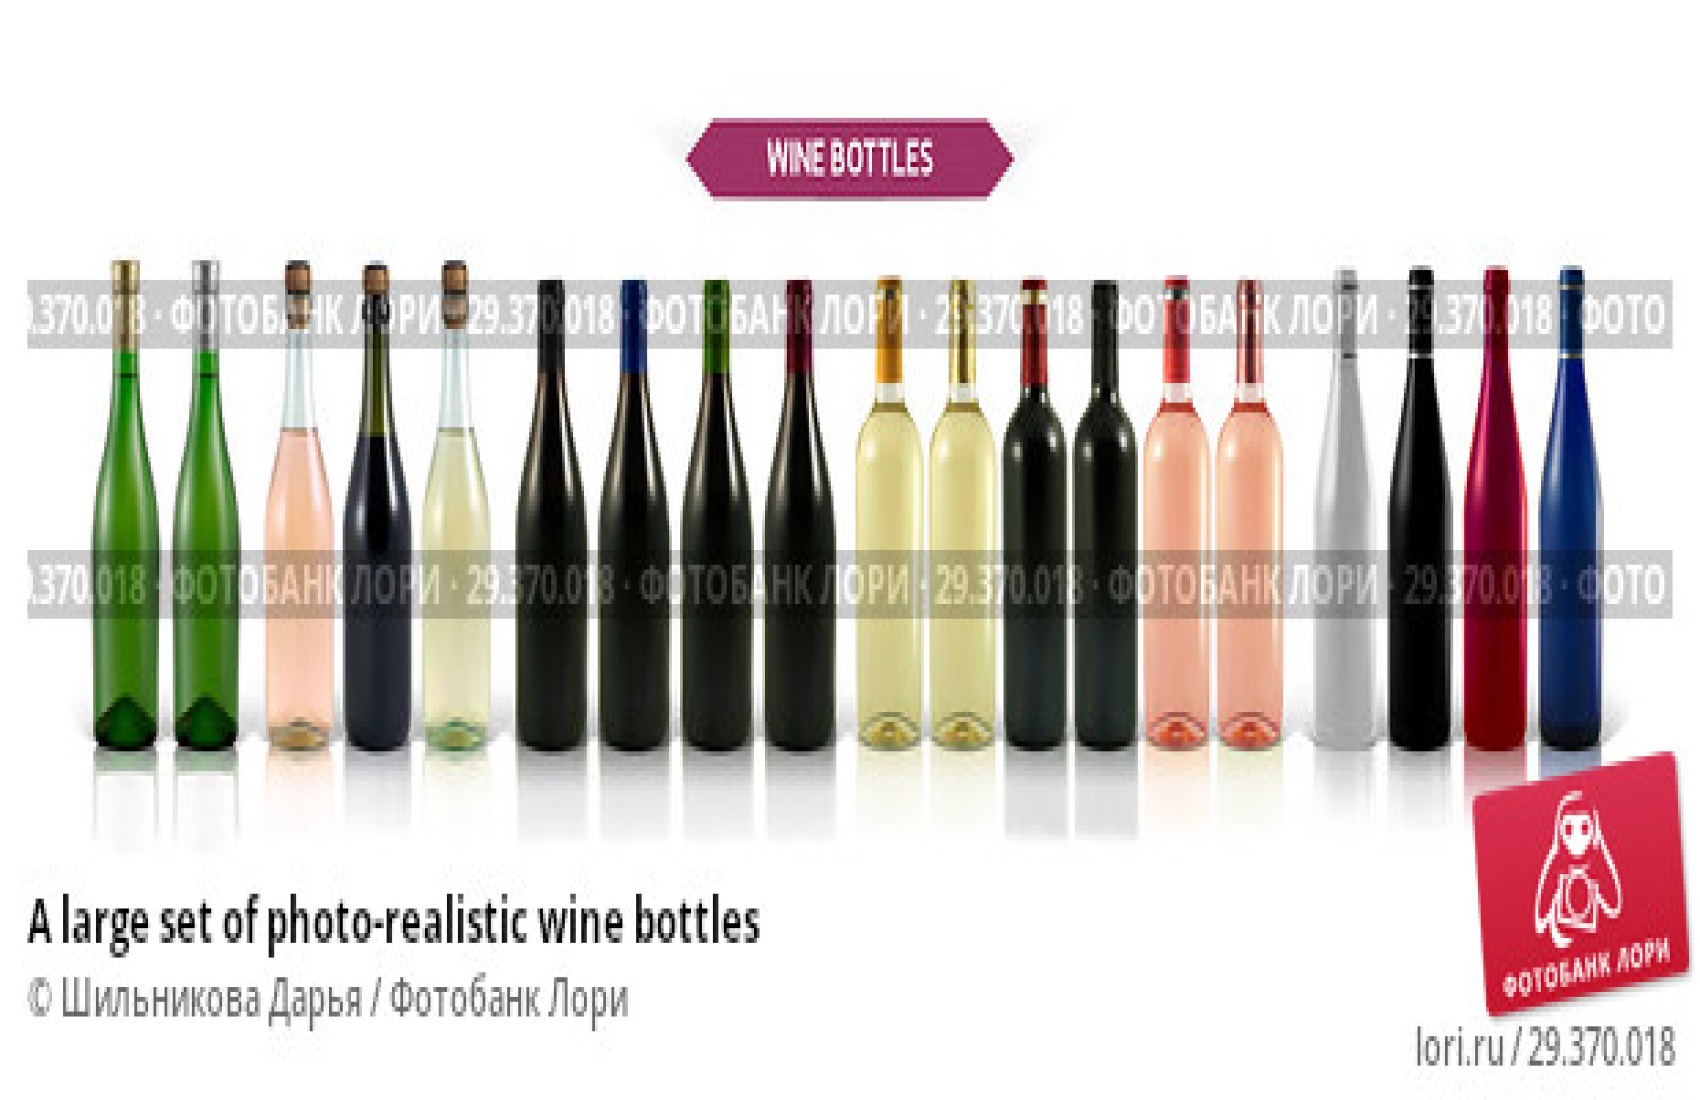wine: (268, 277, 330, 754), (423, 273, 484, 749), (769, 268, 831, 744), (1141, 268, 1203, 744), (94, 264, 156, 740), (172, 264, 234, 740), (351, 276, 413, 752), (519, 276, 581, 752), (601, 276, 663, 752), (681, 276, 743, 752), (857, 269, 919, 744), (932, 280, 994, 756), (1000, 276, 1062, 752), (1080, 266, 1142, 742), (1211, 275, 1273, 751), (1318, 277, 1380, 753), (1385, 273, 1447, 748), (1461, 270, 1523, 746), (1538, 266, 1600, 742)
